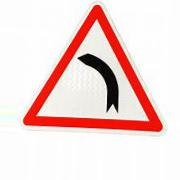left: (21, 1, 164, 132)
